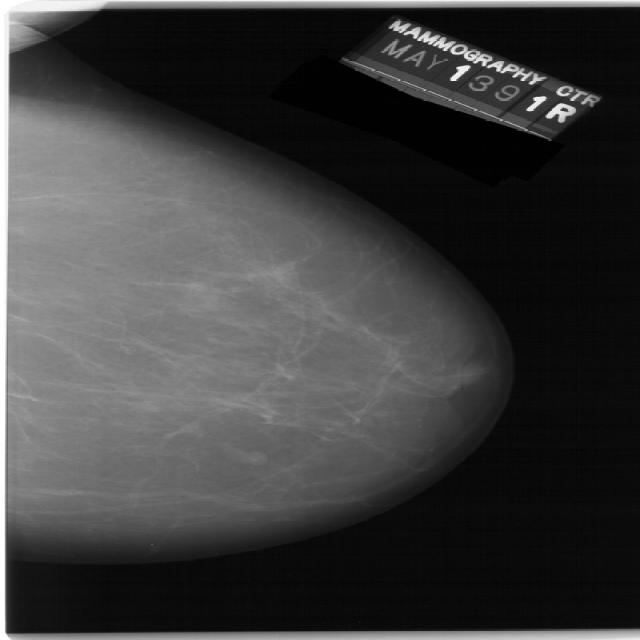tumour: (232, 449, 267, 466)
